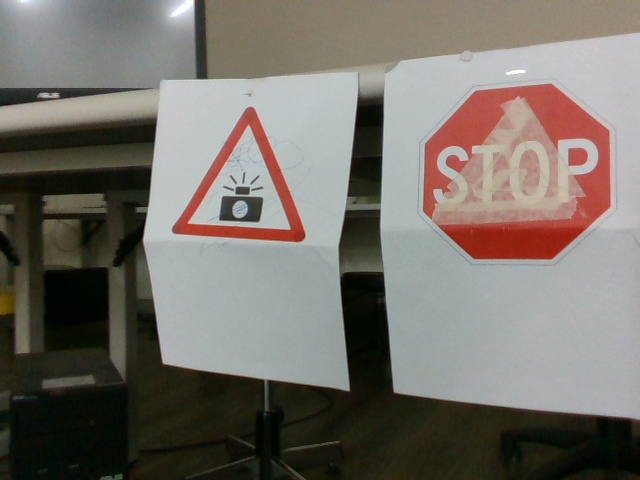camera: (172, 106, 306, 241)
stop: (419, 87, 617, 265)
